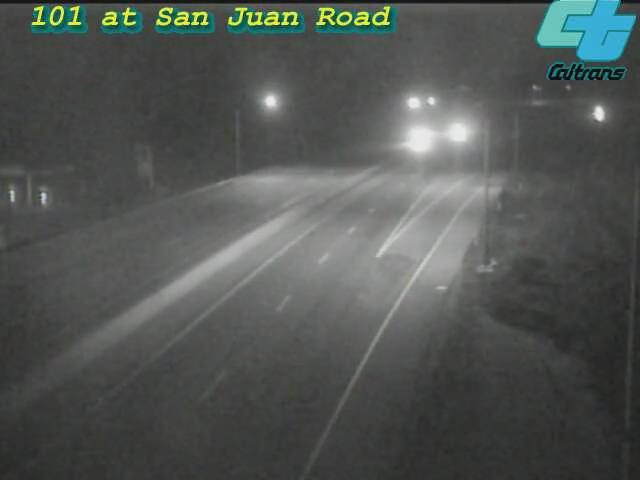vehicle: (388, 116, 438, 166), (434, 108, 484, 158), (574, 89, 624, 139)
